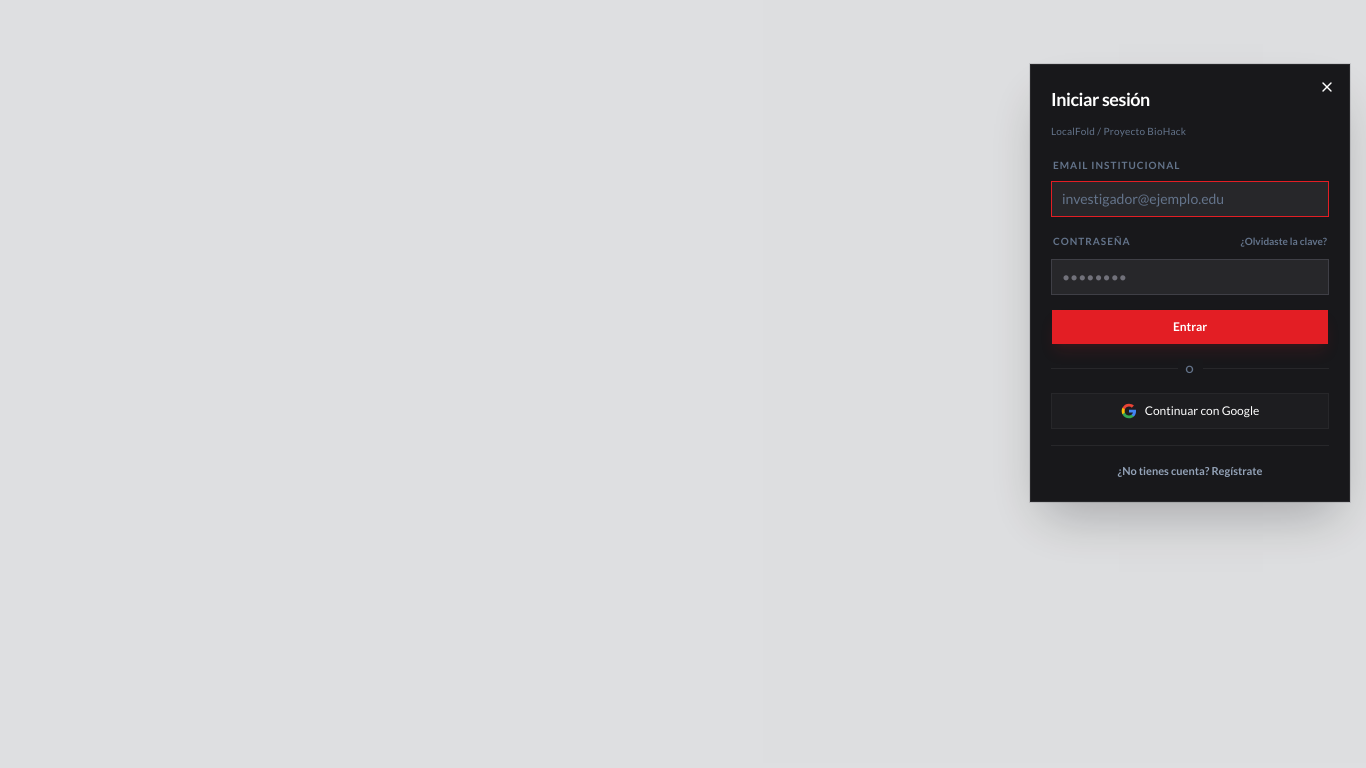
Test: AuthDialog › switches to signup mode
Click the button "¿No tienes cuenta? Regístrate": (1190,470) [1118,460,1262,480]
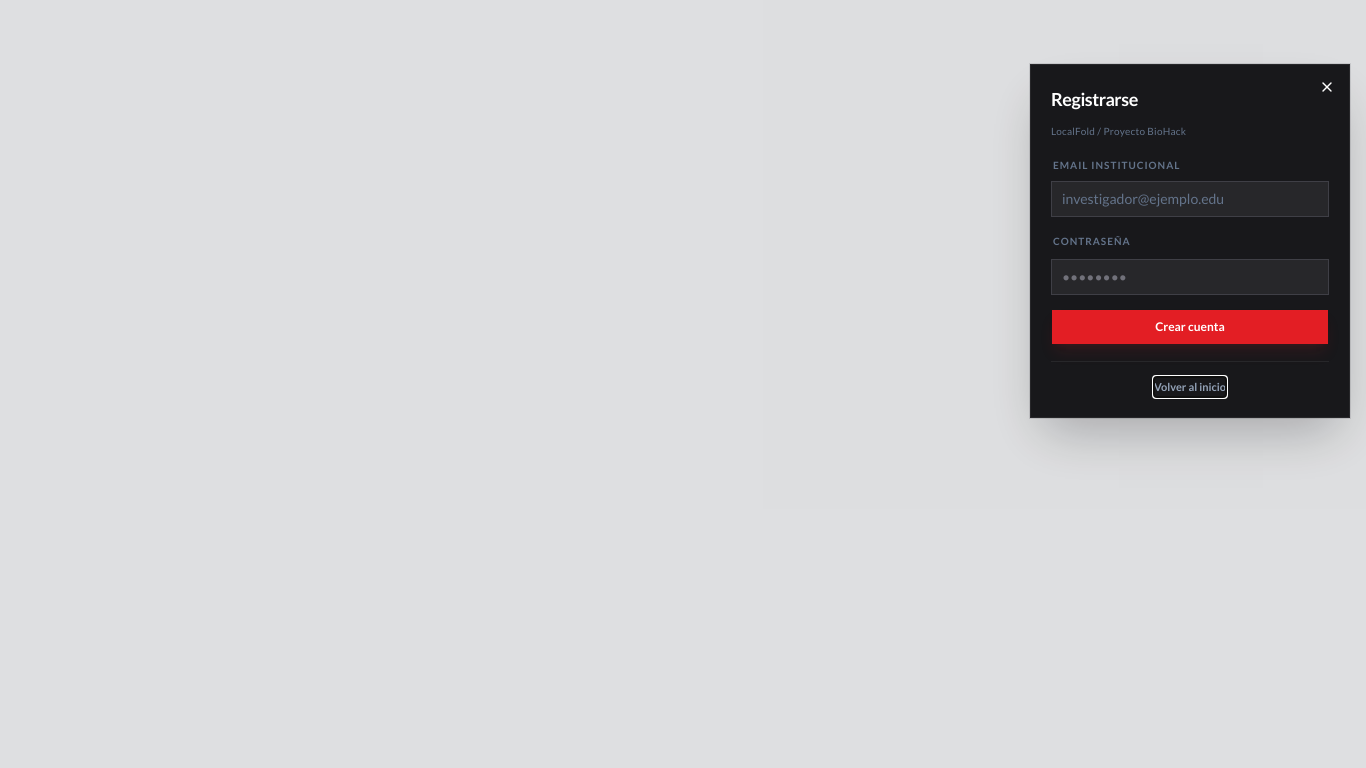
Expected: the heading "Registrarse" is shown, [1051,88,1138,110]
